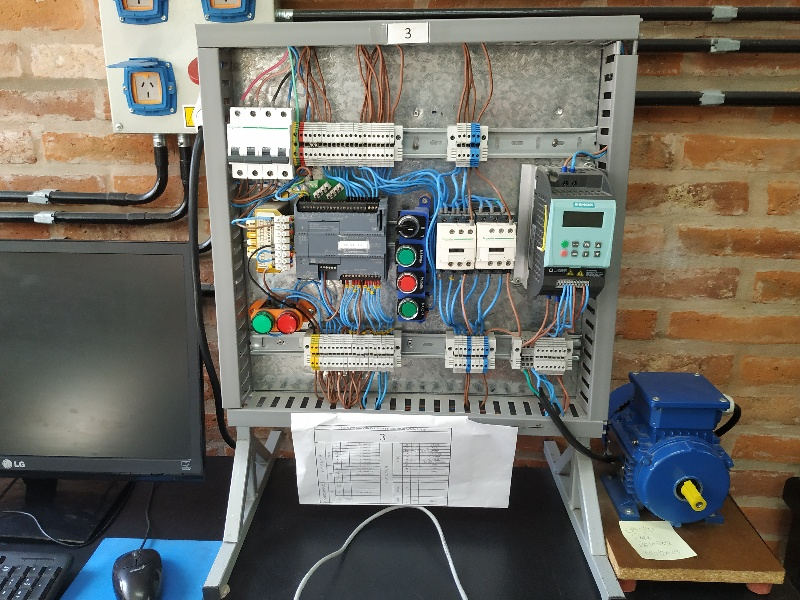Tablero 3: (212, 36, 613, 431)
